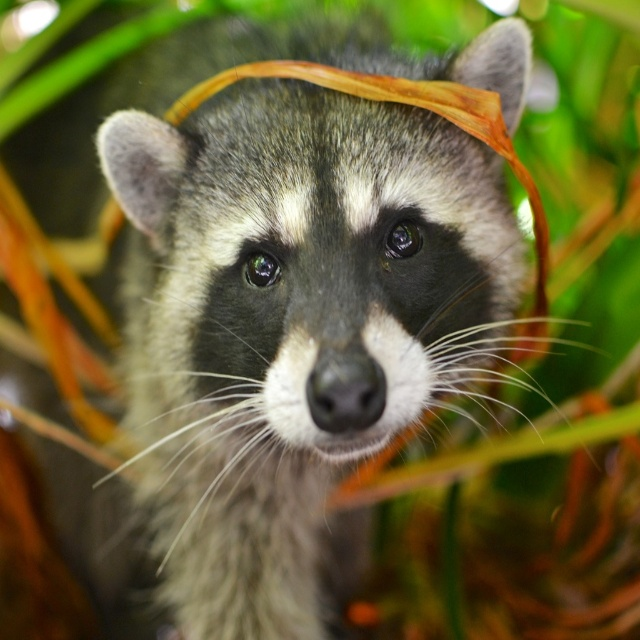Raccoon: (23, 11, 610, 640)
